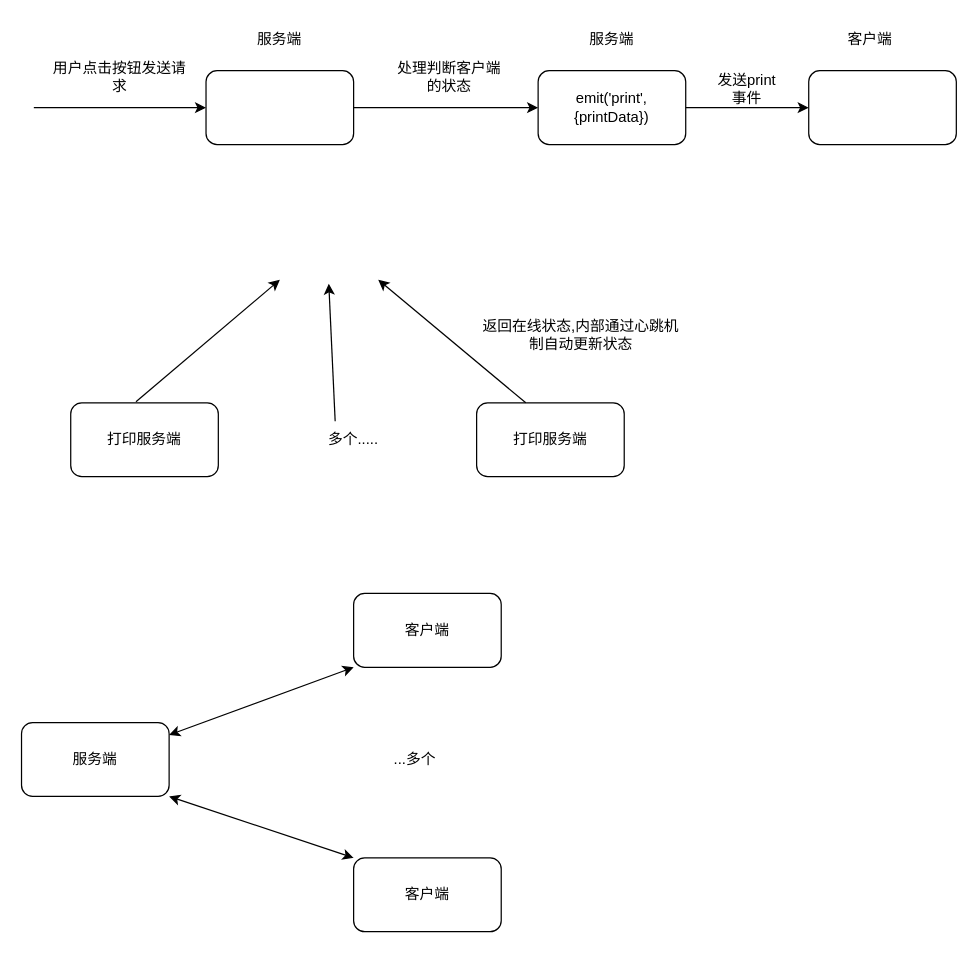
This 978x953 diagram has some shape labels left out. The shapes that lost their labels are listed below. From the top down, each one's box as (x1, y1, x2, y2) in pixels, then its label:
(205, 69, 354, 145): /startPrint
(807, 69, 956, 145): 触发print事件并处理
